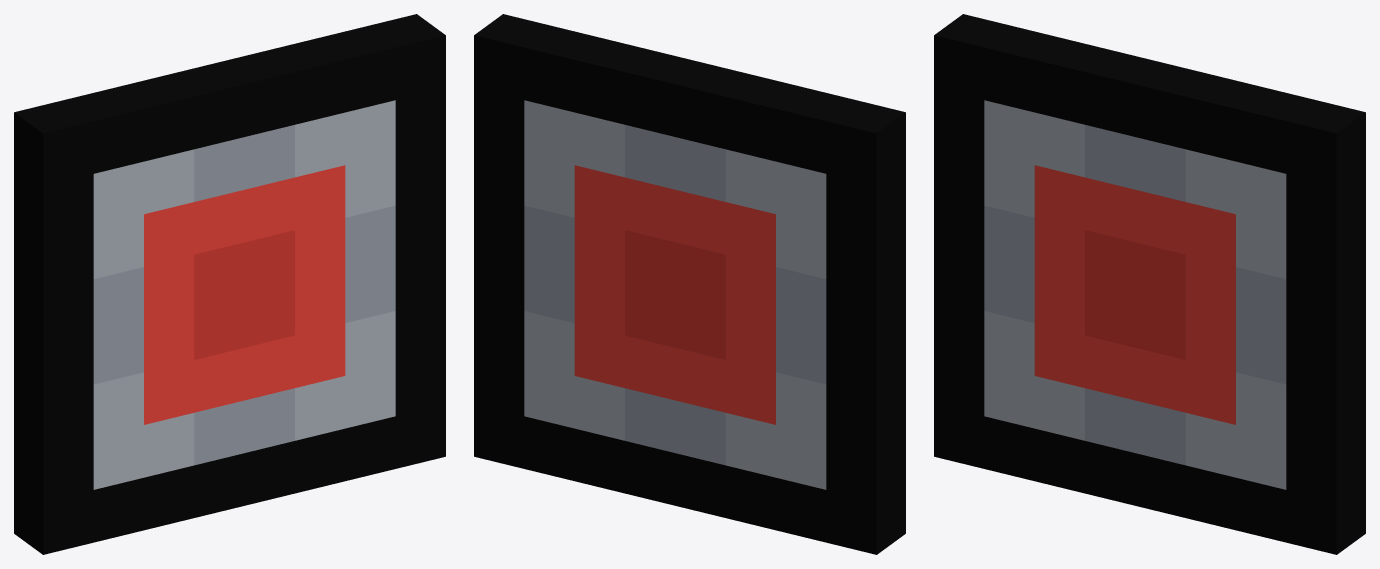
Rendered from Super Jump Pad.glb.
The picture shows the model from 3 angles, left to right: view 1: azimuth 30°, elevation 25°; view 2: azimuth 150°, elevation 25°; view 3: azimuth 330°, elevation 25°; orthographic projection.
Visible parts, largest first — view 1: generated(Clone); view 2: generated(Clone); view 3: generated(Clone).
Part boxes in pixels (box(x1,y1,x2,y2)): generated(Clone): box(14, 14, 445, 554); generated(Clone): box(474, 14, 905, 554); generated(Clone): box(934, 14, 1365, 554).
Bounding box in the file's own units: 8 × 8 × 1.
Materials: 1 (1 with a texture image).
